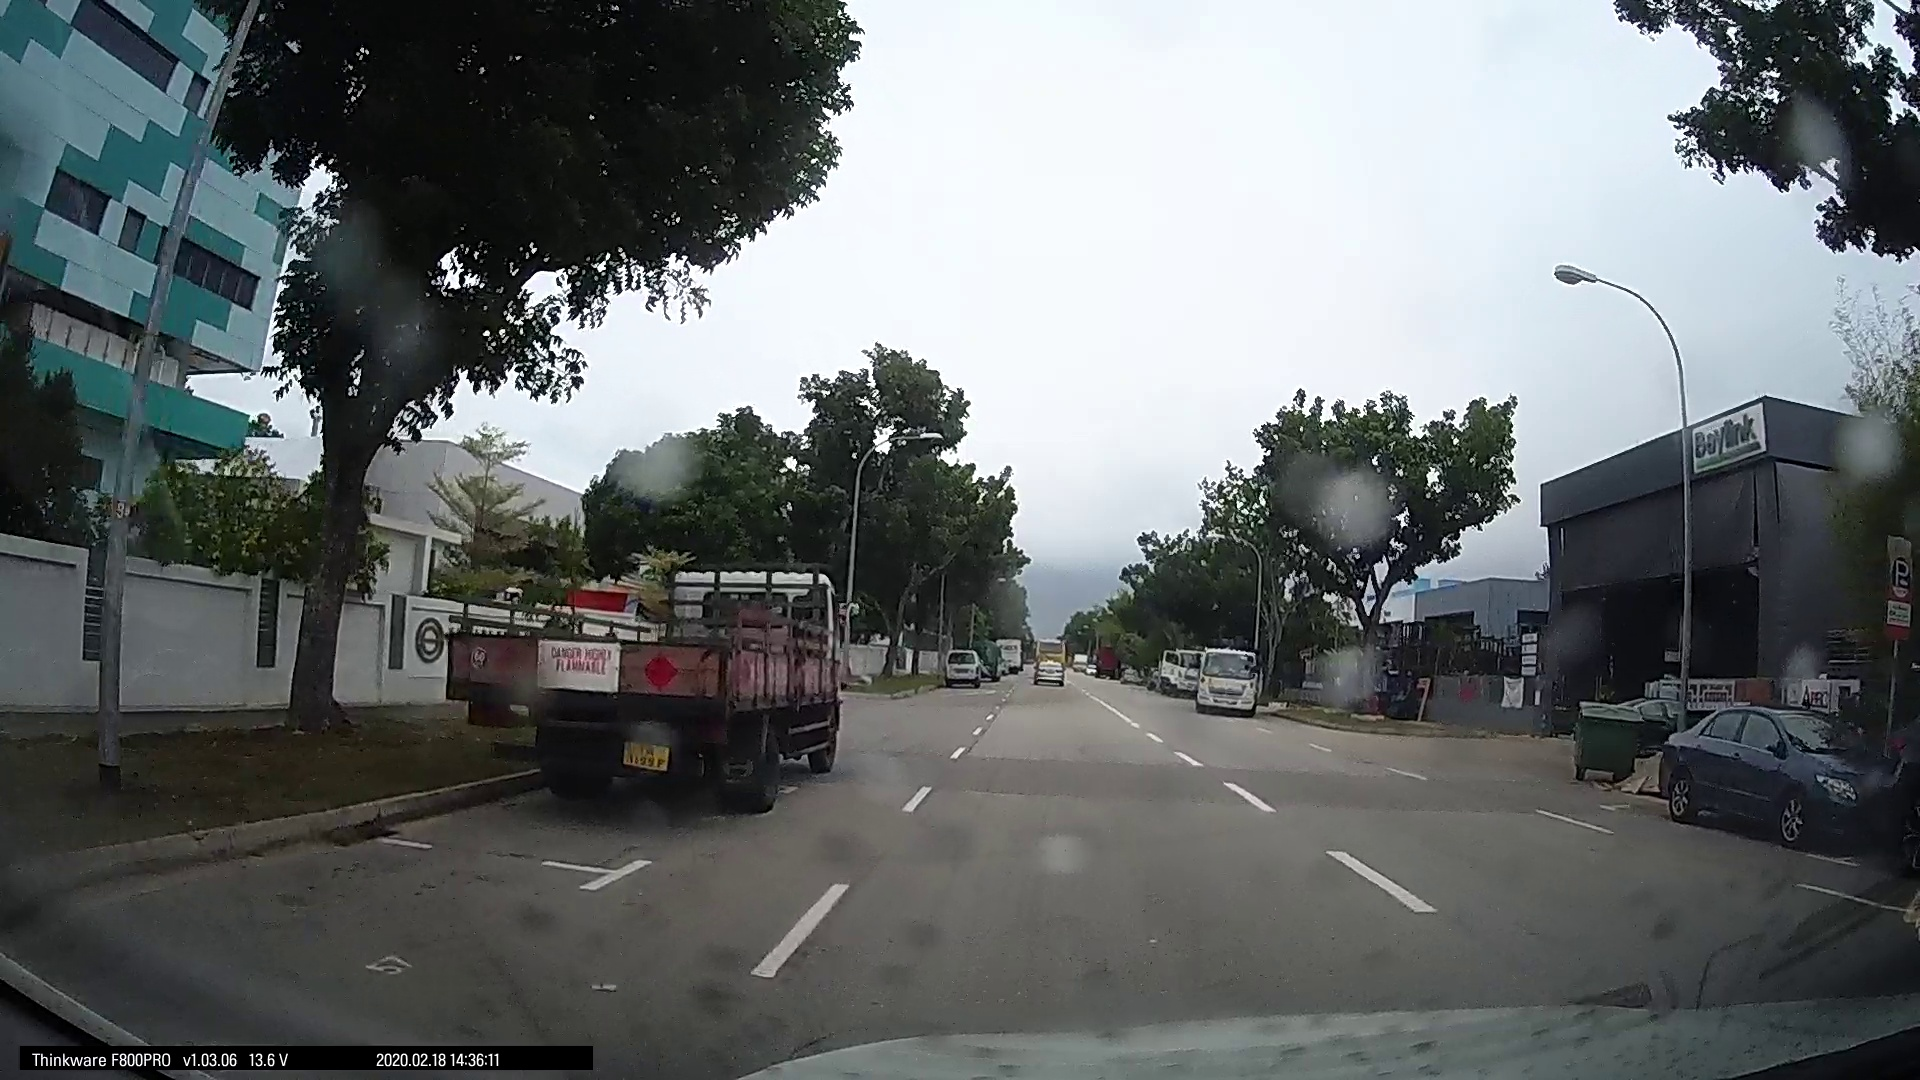Heavy Vehicle: (506, 554, 860, 806)
Light Vehicle: (1651, 702, 1899, 845), (1185, 644, 1259, 715), (939, 644, 986, 687), (1025, 644, 1065, 683)
